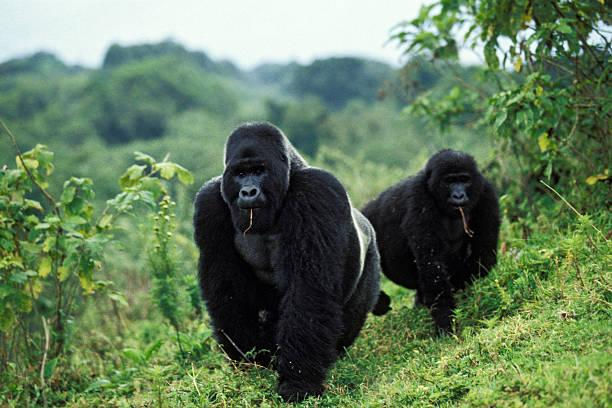gorille_Autres: (180, 119, 380, 403), (364, 145, 531, 324)
